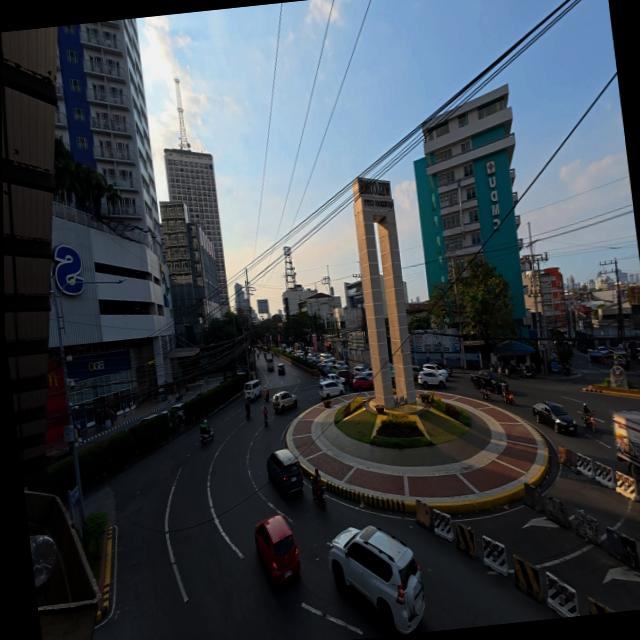car: (323, 518, 425, 640), (254, 510, 305, 590), (264, 443, 308, 498), (531, 397, 578, 438), (413, 360, 449, 387), (271, 388, 299, 414), (318, 374, 345, 398)
